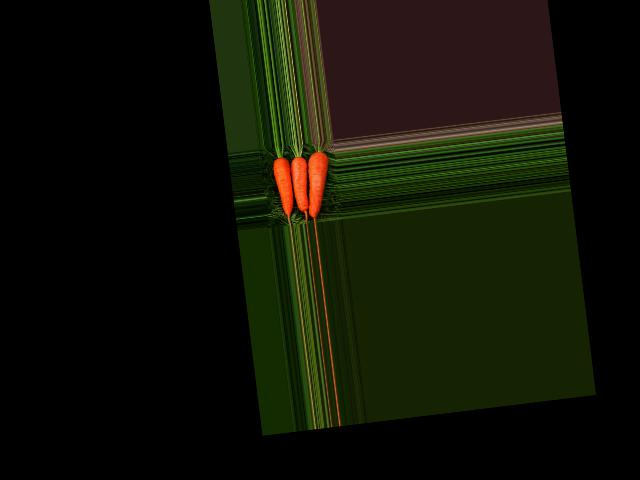carrot: (301, 149, 335, 218)
